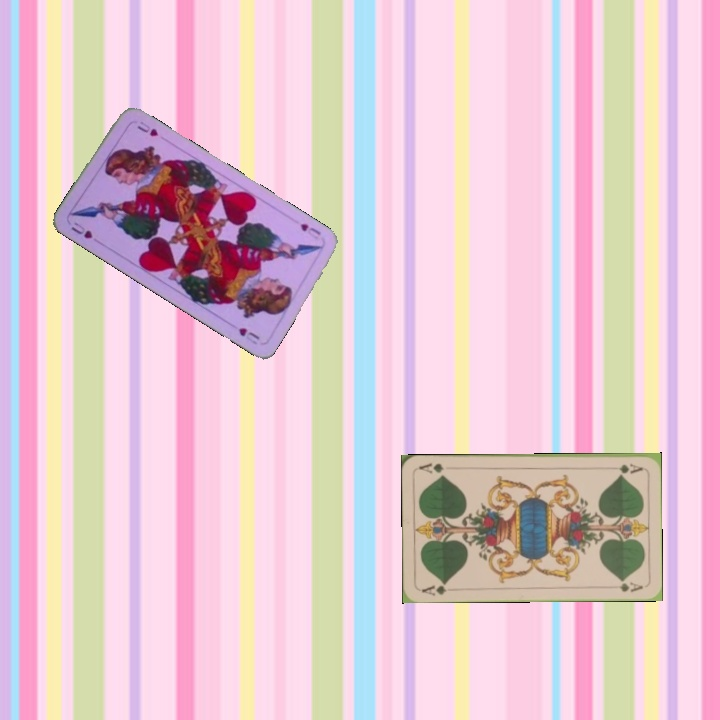GA: (418, 578, 457, 598), (605, 459, 645, 476)
HU: (67, 218, 95, 241), (296, 219, 324, 242)
